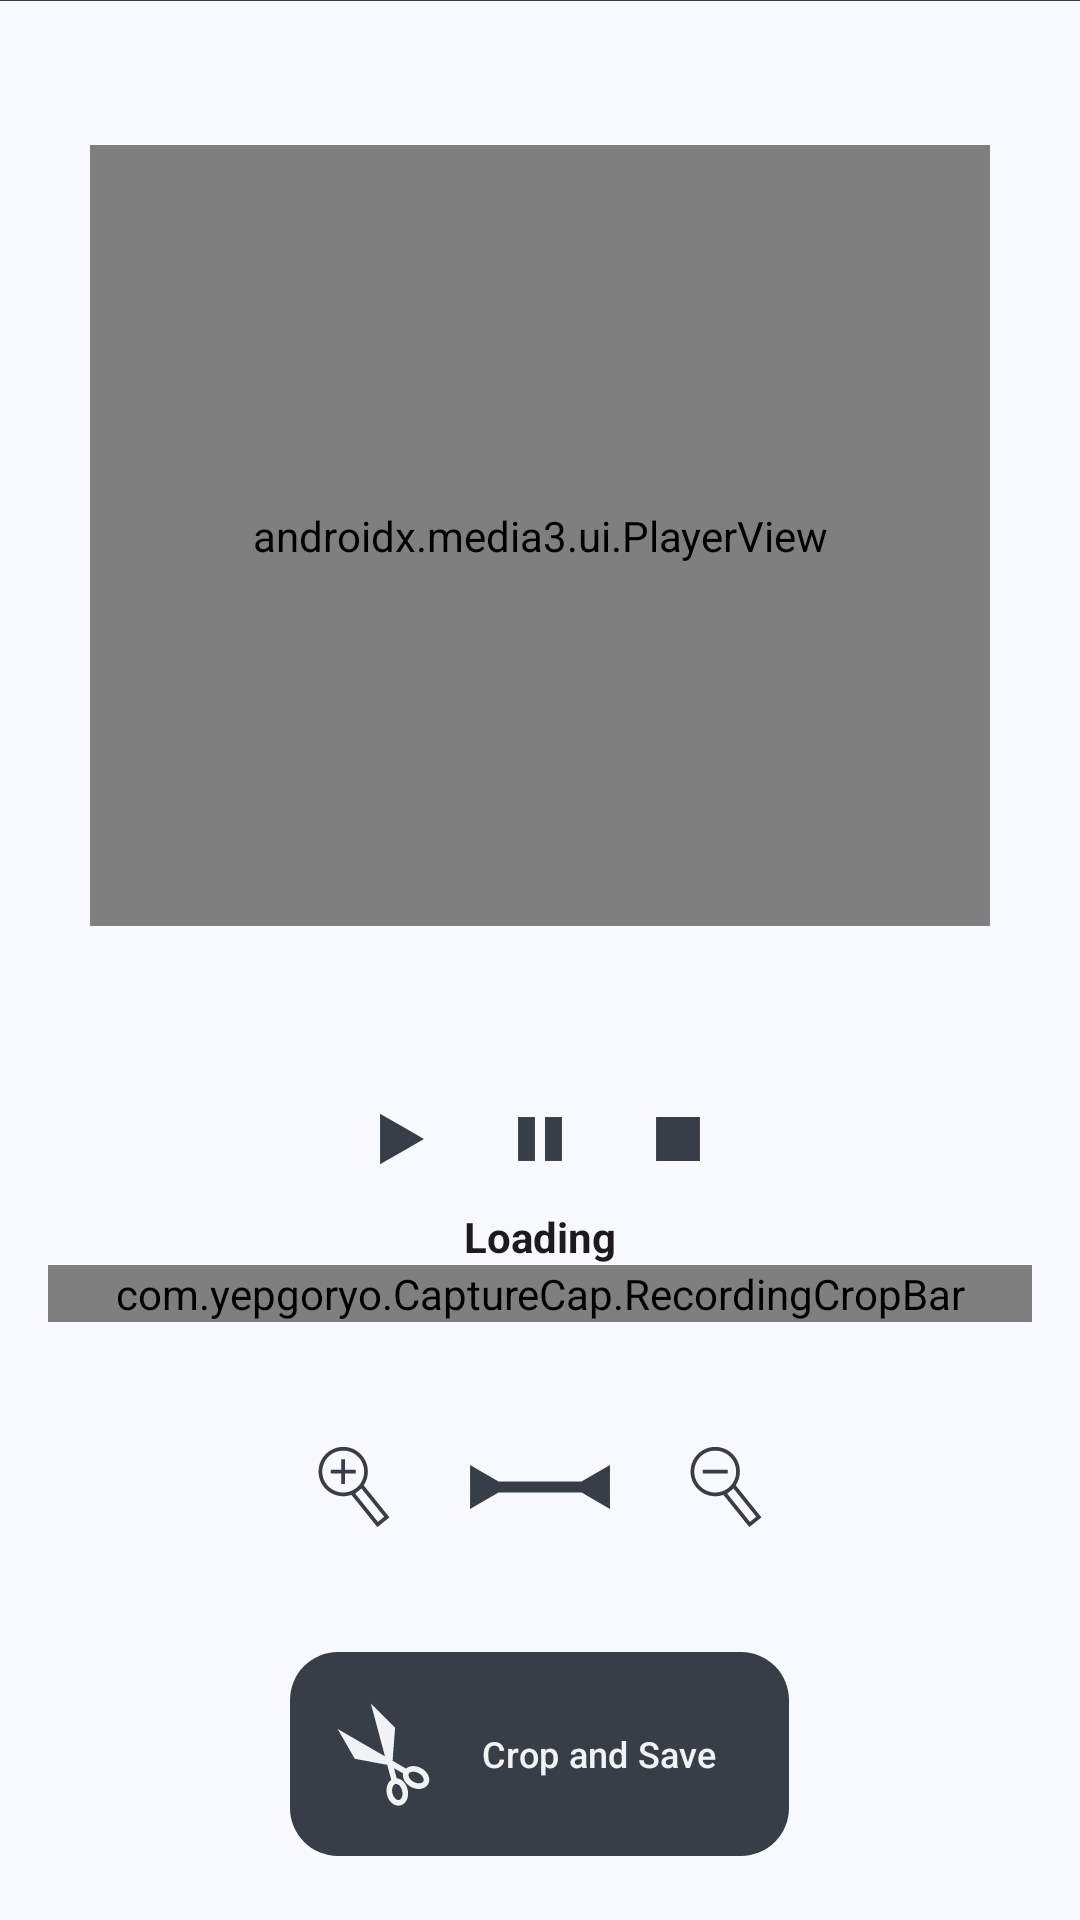

Icons on this 1080w x 1920h Android screen, each with the point to tap as (x=x, y=y):
Pause: (x=540, y=1139)
Play: (x=402, y=1139)
Zoom In: (x=354, y=1487)
Zoom Out: (x=726, y=1487)
